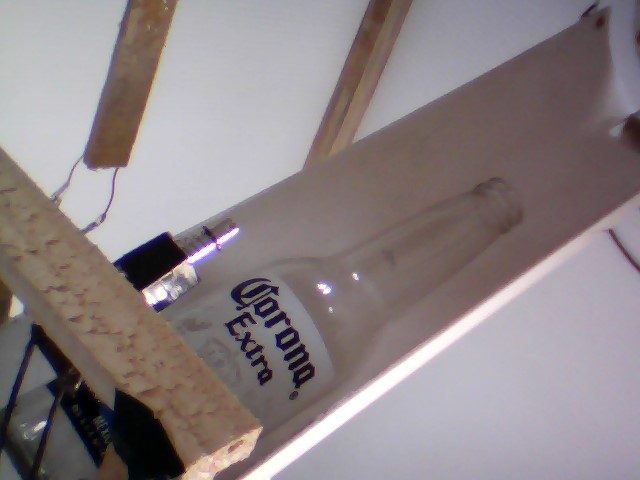vidrio: (170, 168, 535, 428)
